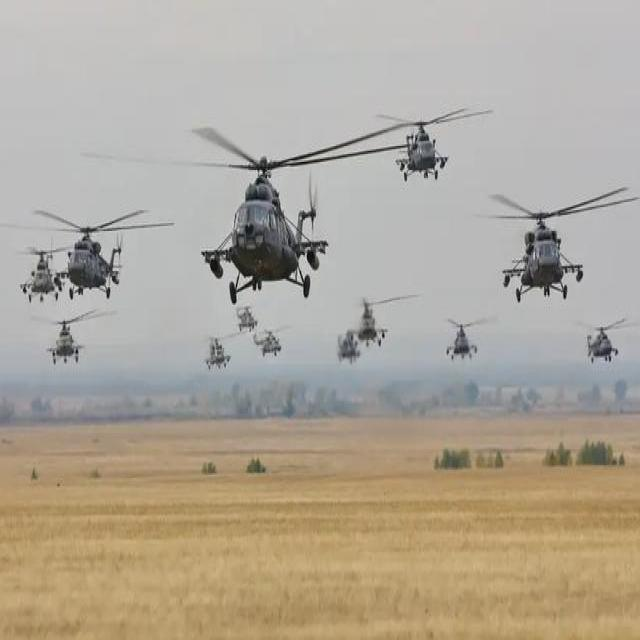MIL_HELO: (163, 118, 356, 308), (479, 170, 625, 306), (38, 191, 156, 294), (359, 98, 466, 204), (430, 290, 493, 378), (351, 280, 411, 345), (573, 315, 629, 380), (325, 316, 371, 368), (197, 329, 235, 382), (246, 321, 288, 362), (220, 302, 252, 334)
